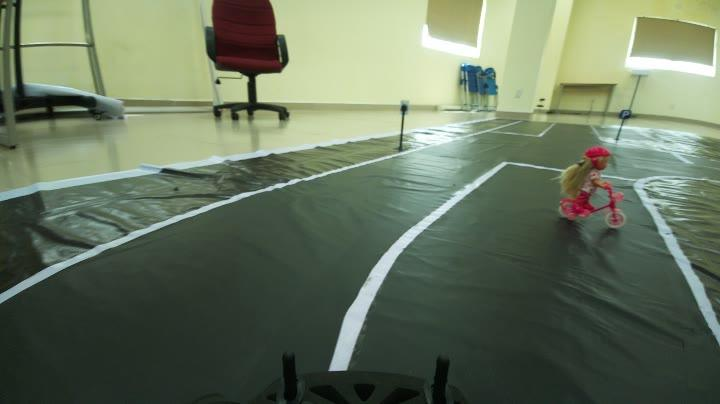pedestrian: (556, 134, 638, 230)
